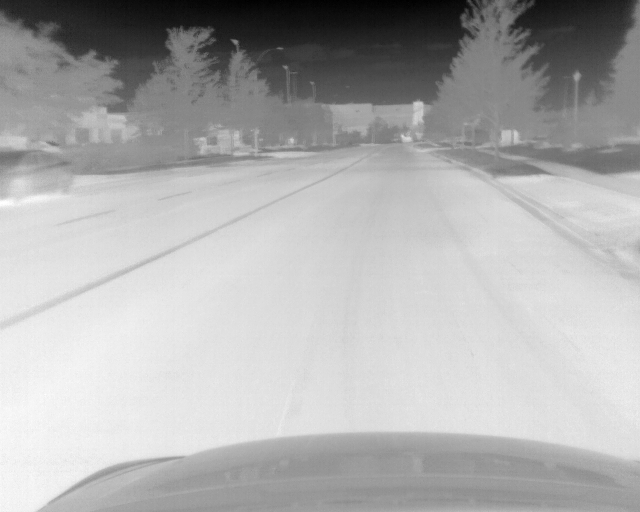car: (1, 147, 78, 204)
